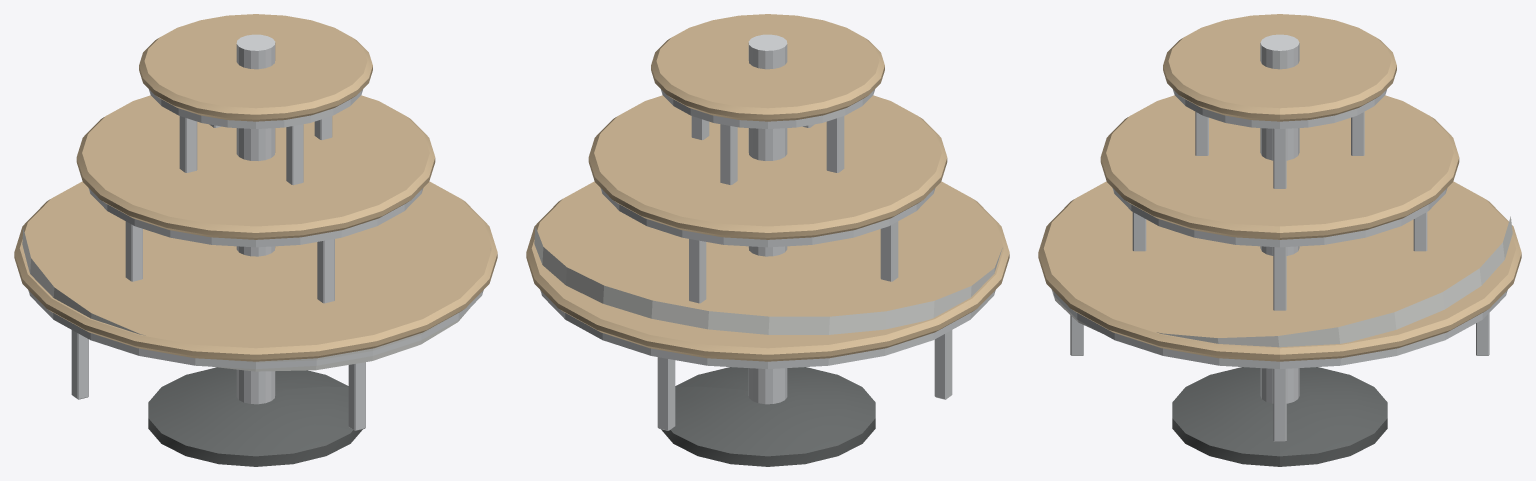
Rendered from garden-centre-and-florist-pot-display-ring-afdabd6a__17722.glb.
3 views of the same model, side by side, from view 1: azimuth 30°, elevation 25°; view 2: azimuth 150°, elevation 25°; view 3: azimuth 270°, elevation 25° (orthographic).
Parts seen in each view (by area): view 1: pot-display-ring; view 2: pot-display-ring; view 3: pot-display-ring.
Boxes of the visible parts, x1=… form: pot-display-ring: x1=14, y1=14, x2=497, y2=466; pot-display-ring: x1=526, y1=14, x2=1009, y2=466; pot-display-ring: x1=1038, y1=14, x2=1521, y2=466.
Bounding box in the file's own units: 1.24 × 1.07 × 1.24.
